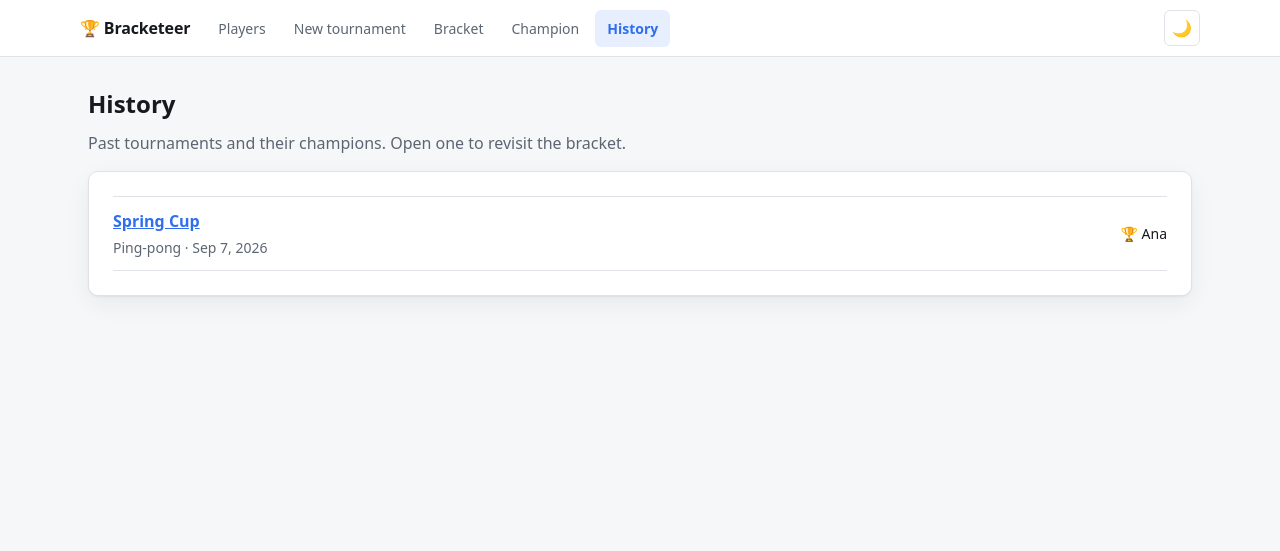
Test: History list › opens a tournament from the list
This screenshot has width=1280, height=551.
Click the link "Spring Cup": (156,221) [113,210,200,232]
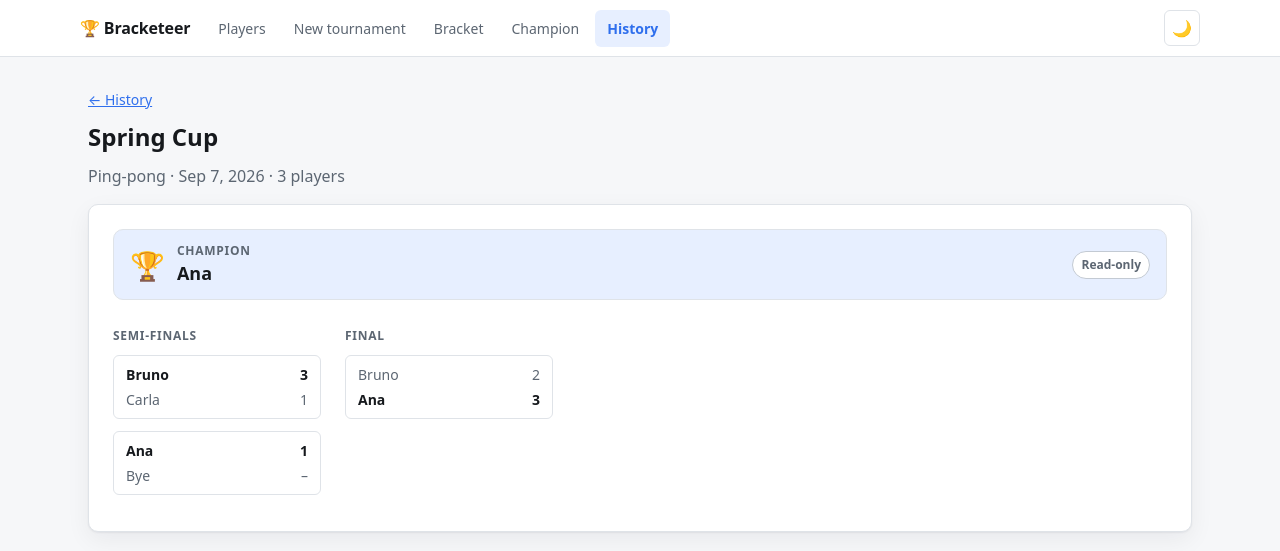
Now the heading "Spring Cup" is shown, box [88,120,218,153]
